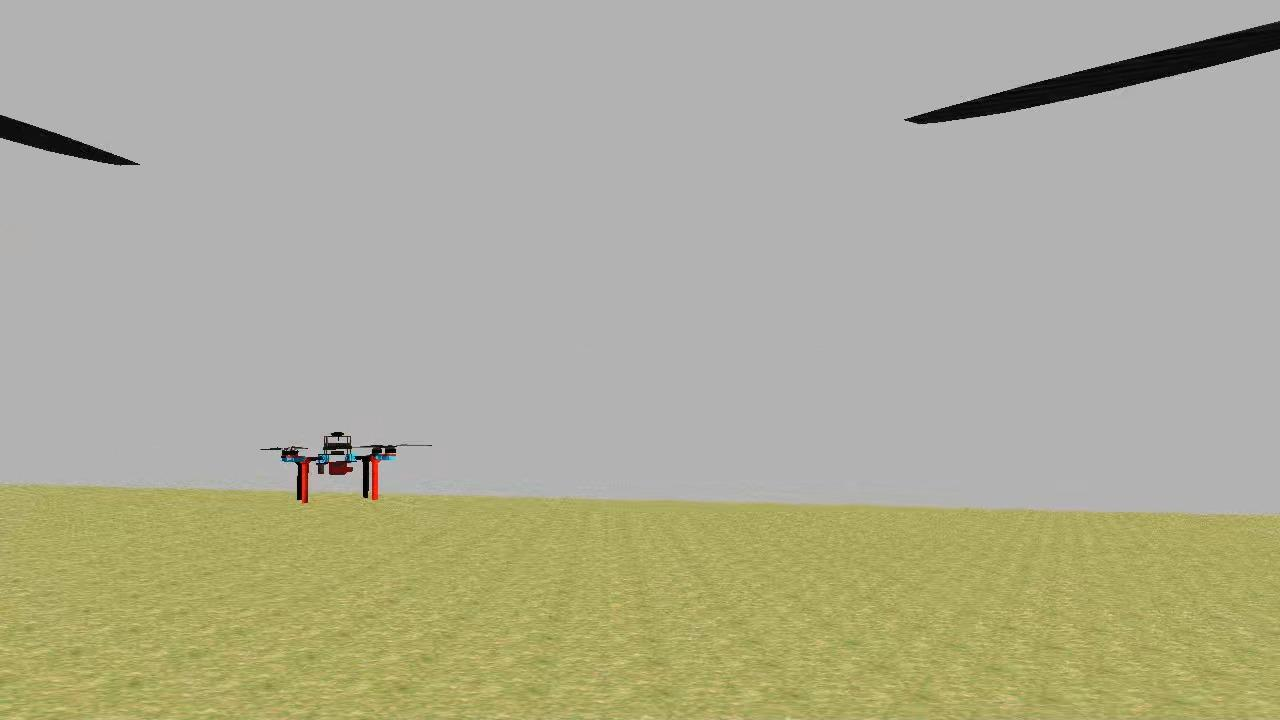UAV: (276, 430, 400, 512)
